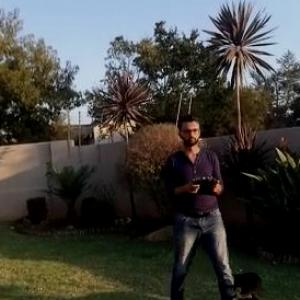follow: (161, 105, 239, 299)
null: (220, 266, 267, 299)
